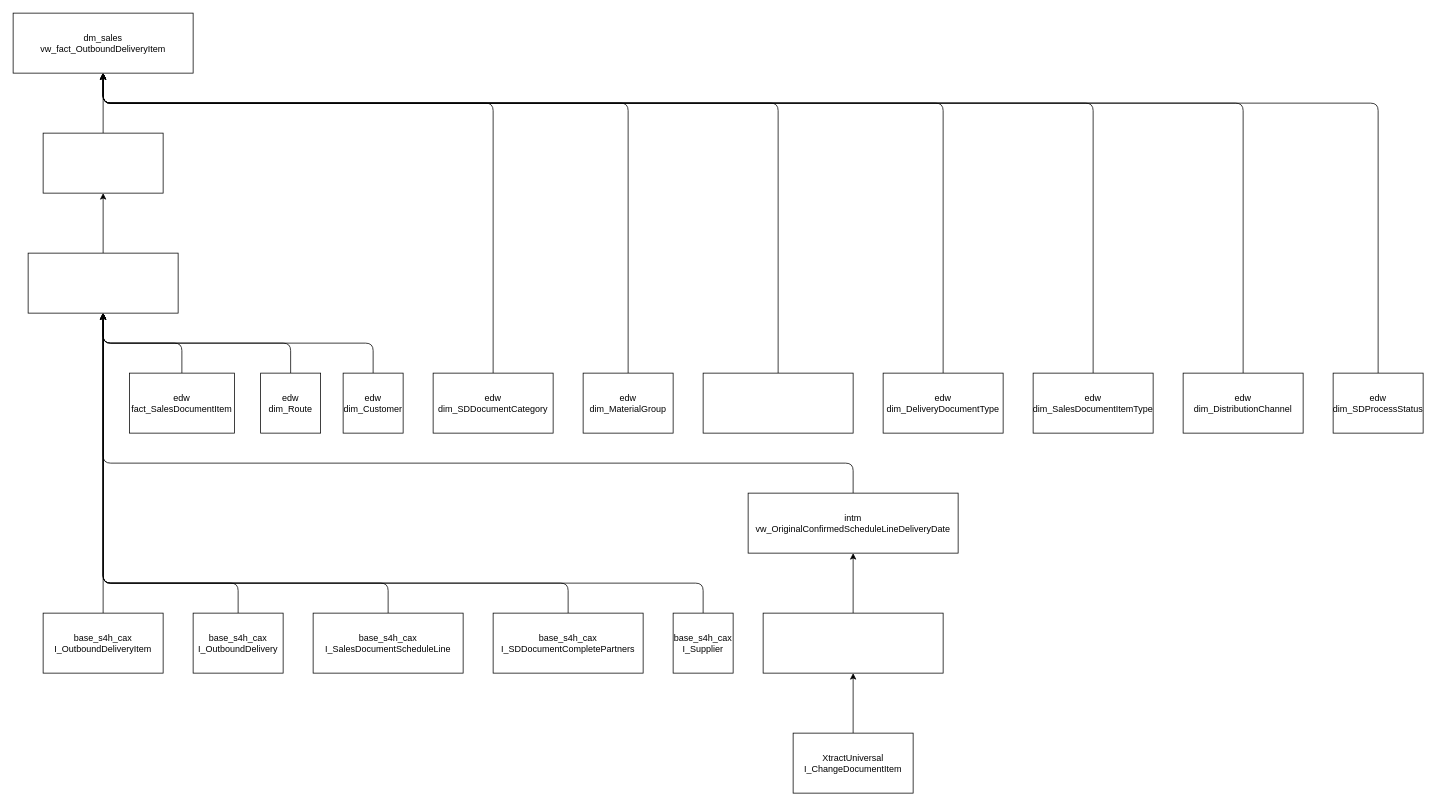
The diagram is 1436 pixels wide and 806 high, and some of its shapes have lost their labels. Here are the shapes that lost their labels. From the top down, the box of each, then its label:
(42, 132, 163, 193): edw fact_OutboundDeliveryItem
(27, 252, 178, 313): edw vw_OutboundDeliveryItem_s4h
(702, 372, 853, 433): edw dim_SalesDocumentItemCategory
(762, 612, 943, 673): base_s4h_cax I_ChangeDocumentItem_VBEP_EDATU
